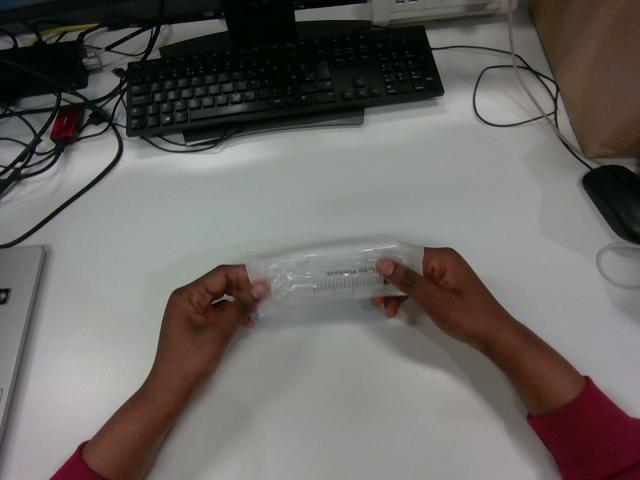syringe: (246, 241, 423, 305)
